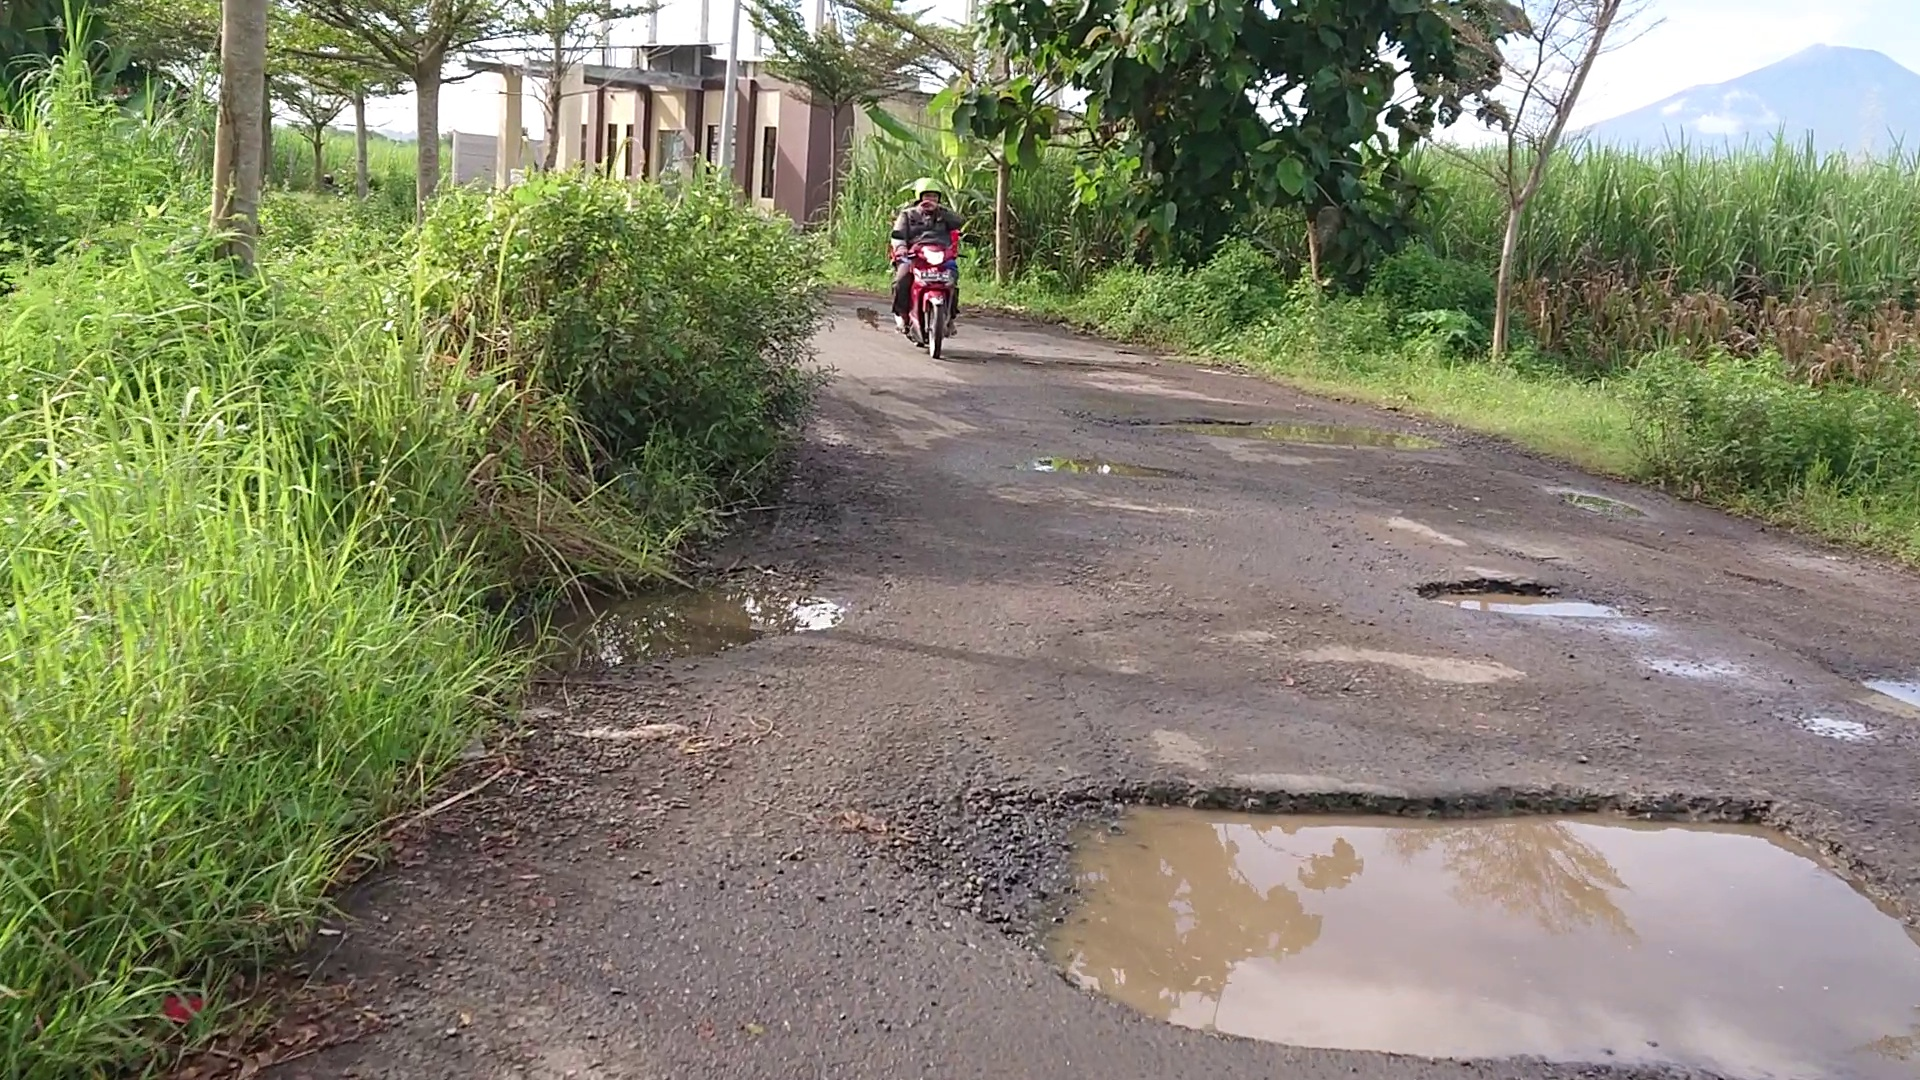Berlubang: (1102, 804, 1909, 1054), (1172, 411, 1408, 467), (1425, 572, 1578, 616)
